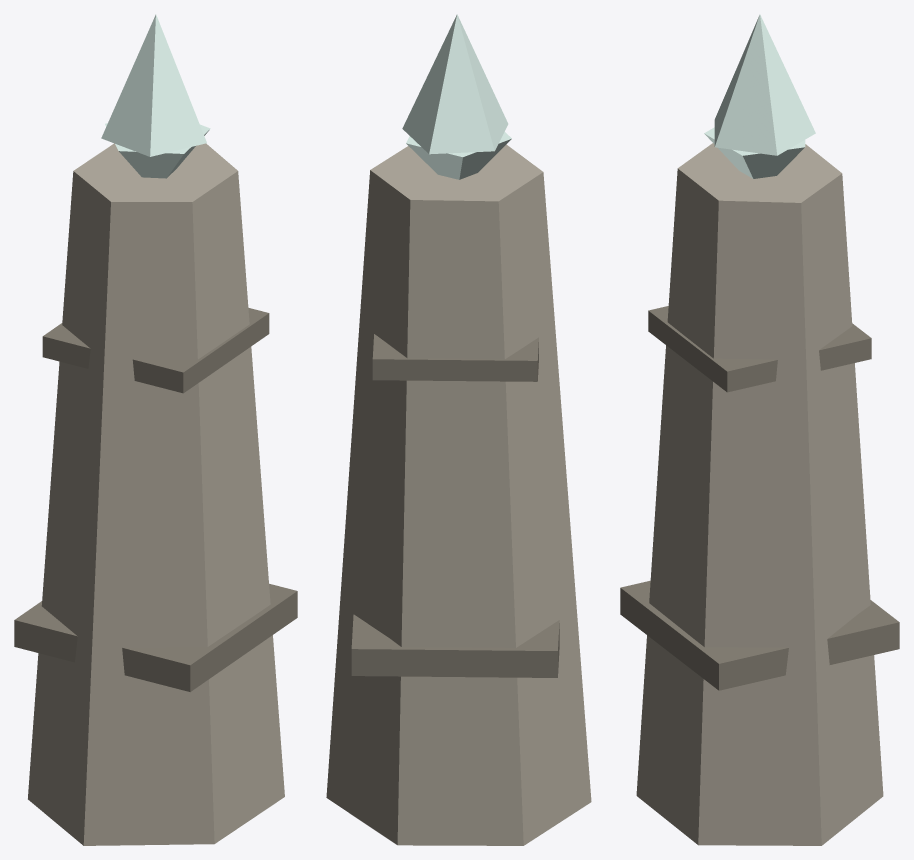
File: shrine_stone_air.glb
3 renders of one model, left to right at view 1: azimuth 30°, elevation 25°; view 2: azimuth 150°, elevation 25°; view 3: azimuth 270°, elevation 25°, orthographic.
Visible parts, largest first — view 1: Stone; view 2: Stone; view 3: Stone.
Boxes of the visible parts, x1,y1,x2,y2 form: Stone: (14,14,297,845); Stone: (326,14,591,845); Stone: (620,14,899,845).
Bounding box in the file's own units: 1.7 × 5.25 × 1.7.
